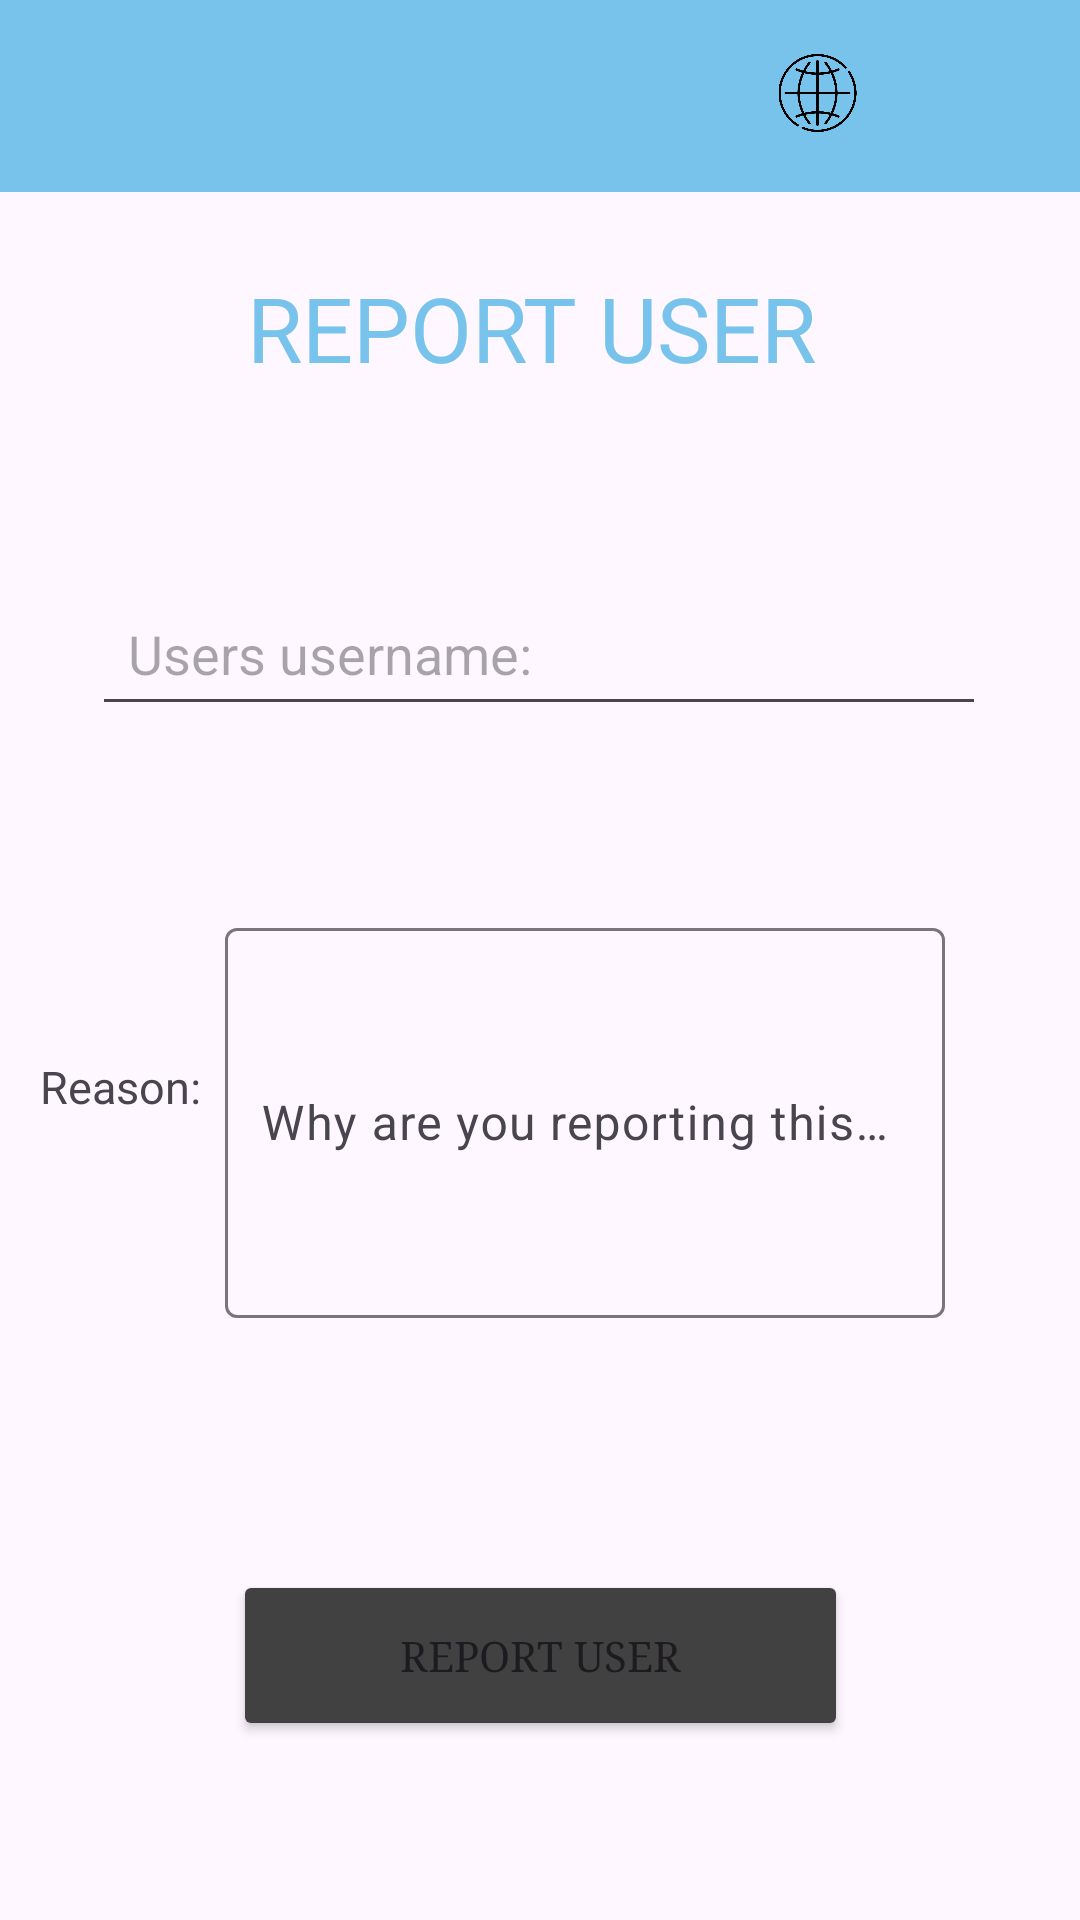

Icon click points for this 1080 × 1920 phone screenshot, format point (x, y):
Language Button: point (818, 93)
